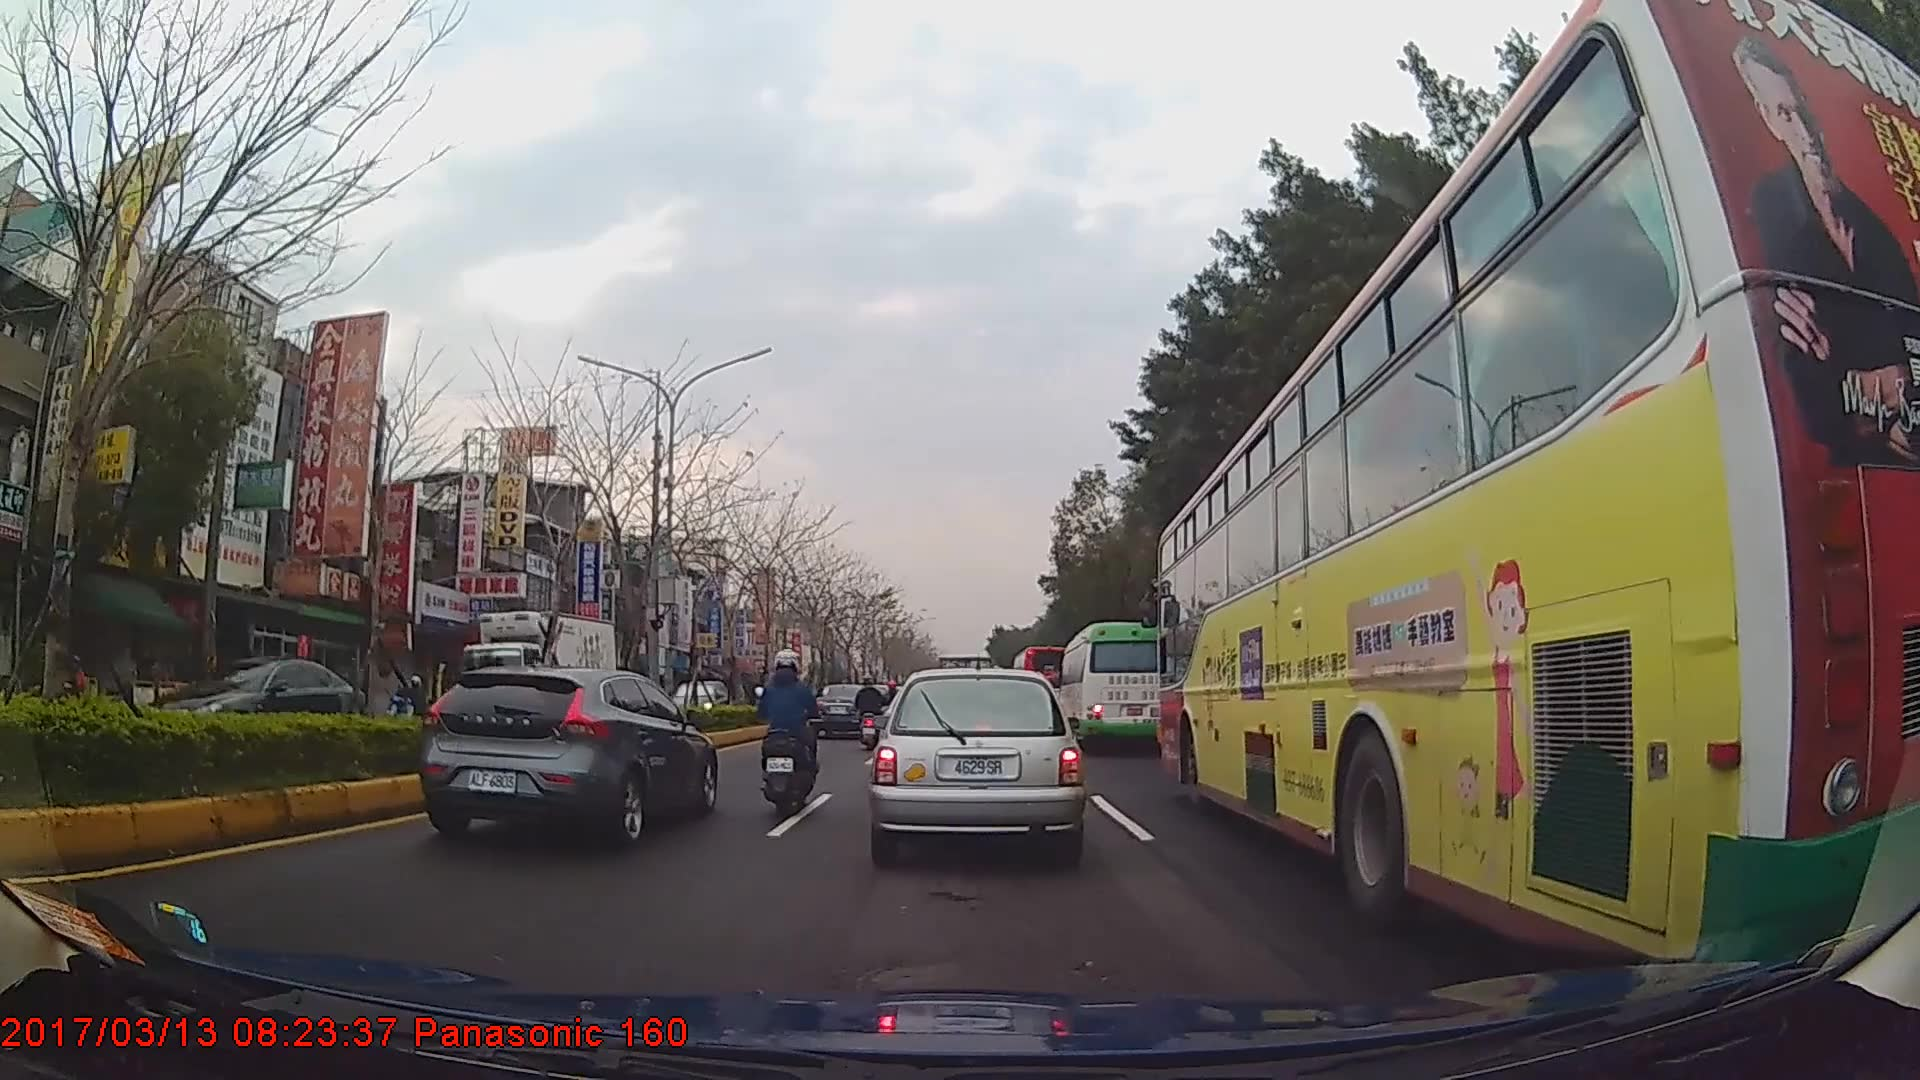rider: (756, 651, 825, 808), (856, 678, 889, 749), (387, 677, 426, 719)
vehicle: (1156, 0, 1920, 998), (417, 663, 719, 846), (869, 672, 1083, 868), (438, 608, 623, 753), (150, 656, 361, 771), (1054, 621, 1173, 752), (1010, 643, 1074, 715), (812, 682, 882, 738)
